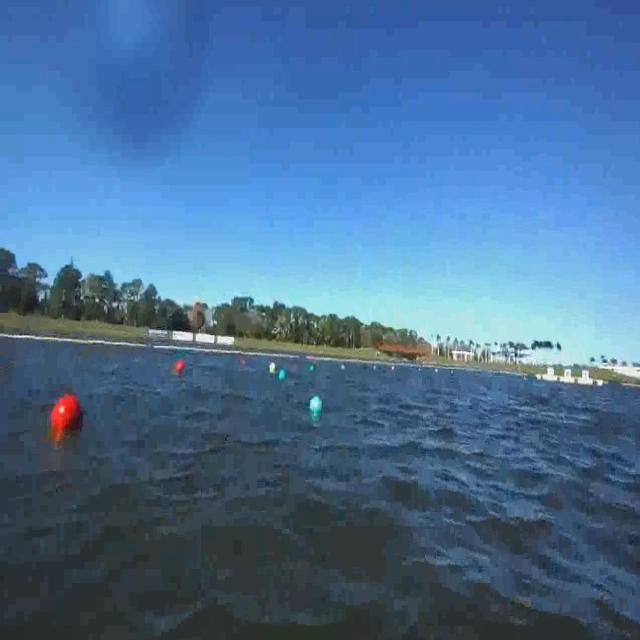green-buoy: (310, 394, 324, 416), (278, 368, 286, 382)
red-buoy: (52, 393, 89, 442), (176, 359, 186, 372)
